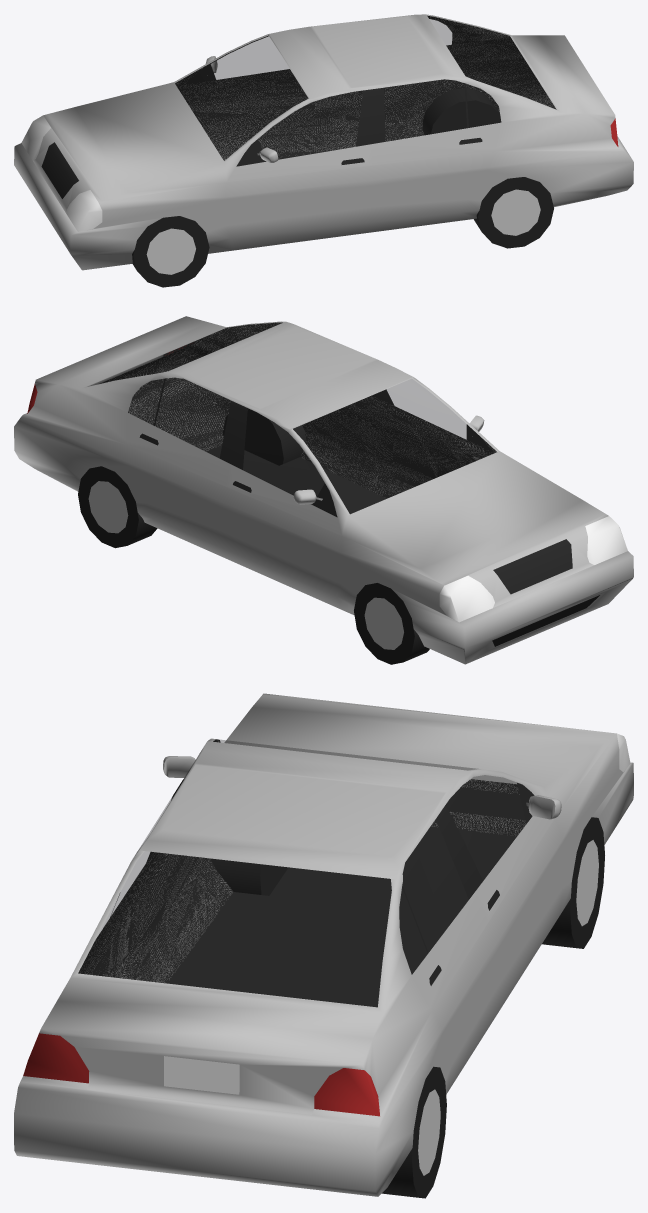
Rendered from car-model.dae.
3 views of the same model, one above another, from view 1: azimuth 30°, elevation 25°; view 2: azimuth 150°, elevation 25°; view 3: azimuth 270°, elevation 25° (orthographic). The views are drawn at different scales.
Parts seen in each view (by area): view 1: car_sedan, car_wheel_1 (×2), car_wheel_1_1_2; view 2: car_sedan, car_wheel_1_1_2 (×2), car_wheel_1; view 3: car_sedan, car_wheel_1_1_2 (×2), car_wheel_1.
Part boxes in pixels (x1,y1,x2,y2): car_sedan: [14, 14, 633, 270]; car_wheel_1 (×2): [132, 177, 553, 287]; car_wheel_1_1_2: [422, 87, 501, 135]; car_sedan: [14, 316, 633, 664]; car_wheel_1_1_2 (×2): [78, 466, 429, 664]; car_wheel_1: [223, 409, 306, 465]; car_sedan: [14, 693, 633, 1196]; car_wheel_1_1_2 (×2): [382, 817, 604, 1198]; car_wheel_1: [210, 858, 288, 895].
Size of the model in its own units: 5.09 by 2.97 by 1.49.
